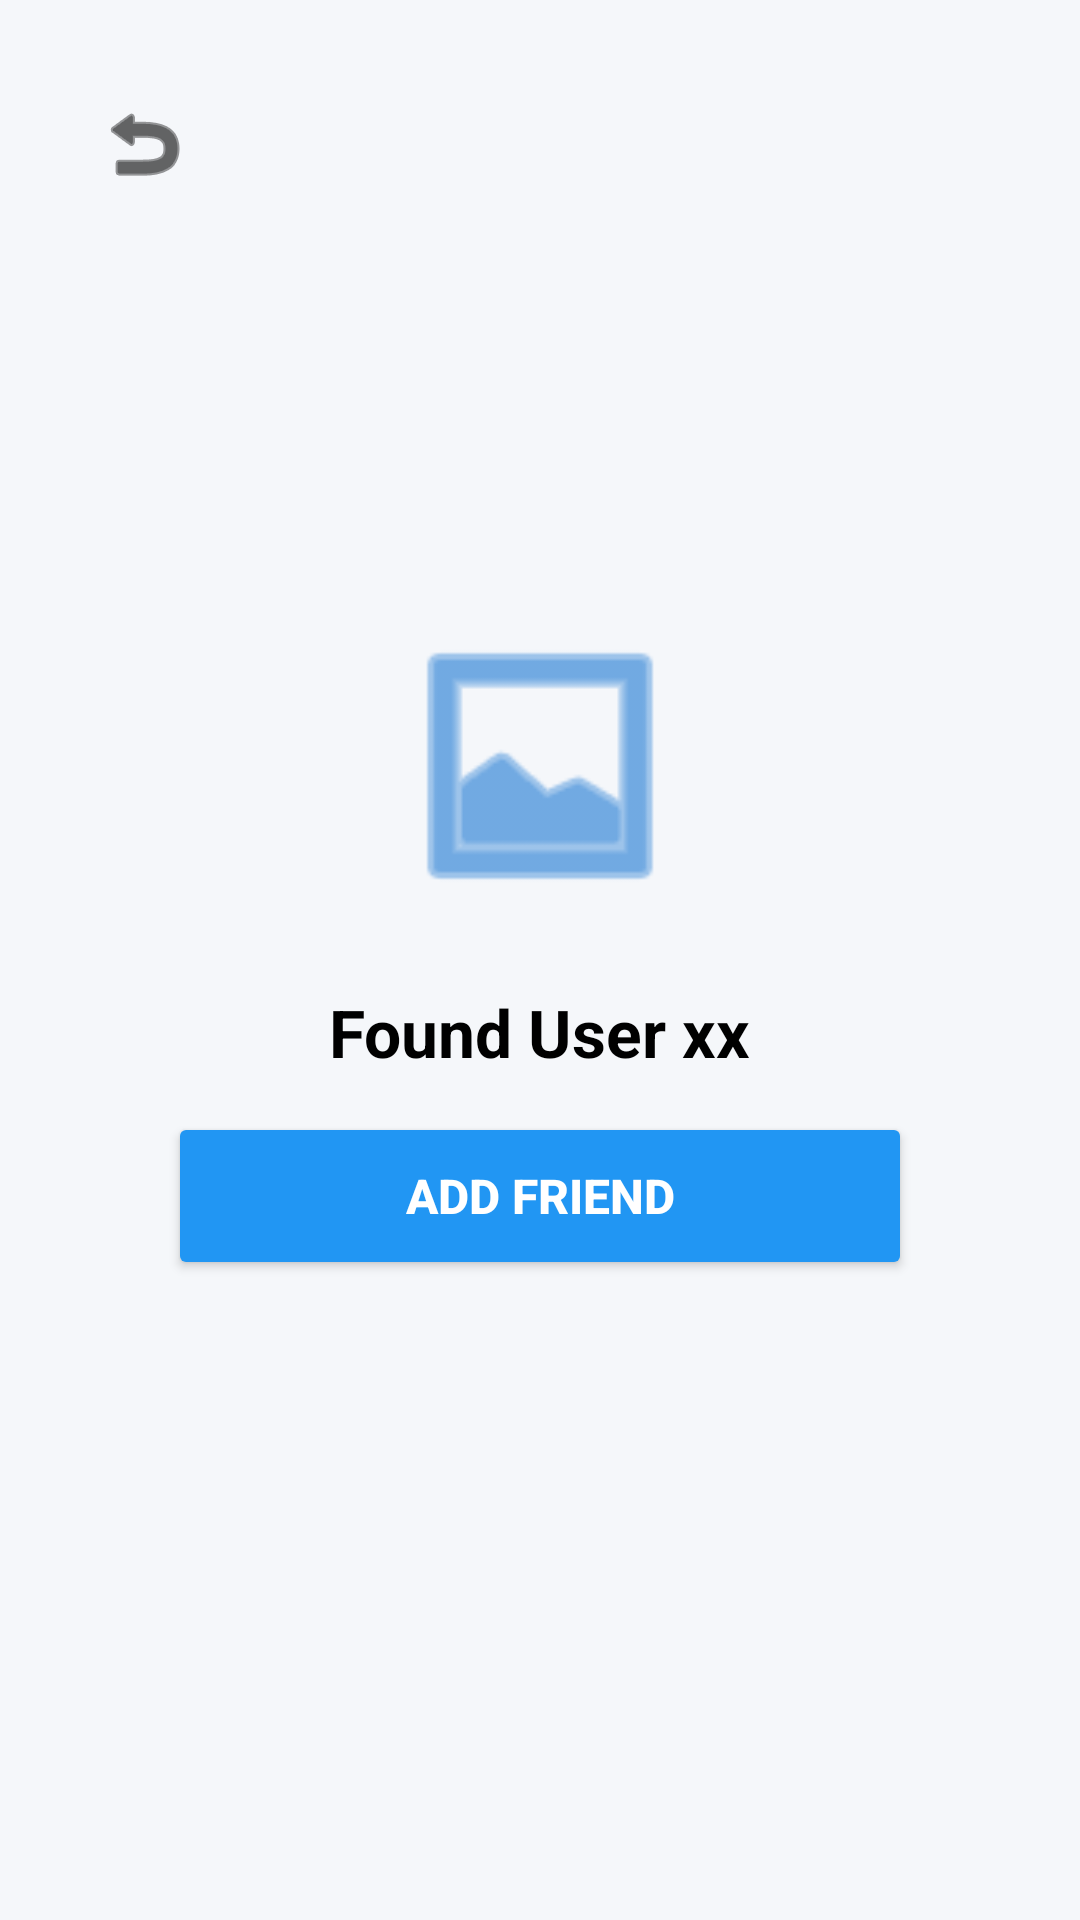

Icons on this 1080×1920 Android screen, each with its box as [x1,y1,x2,y2]:
Back: [111,113,180,176]
gallery: [427,653,653,879]
